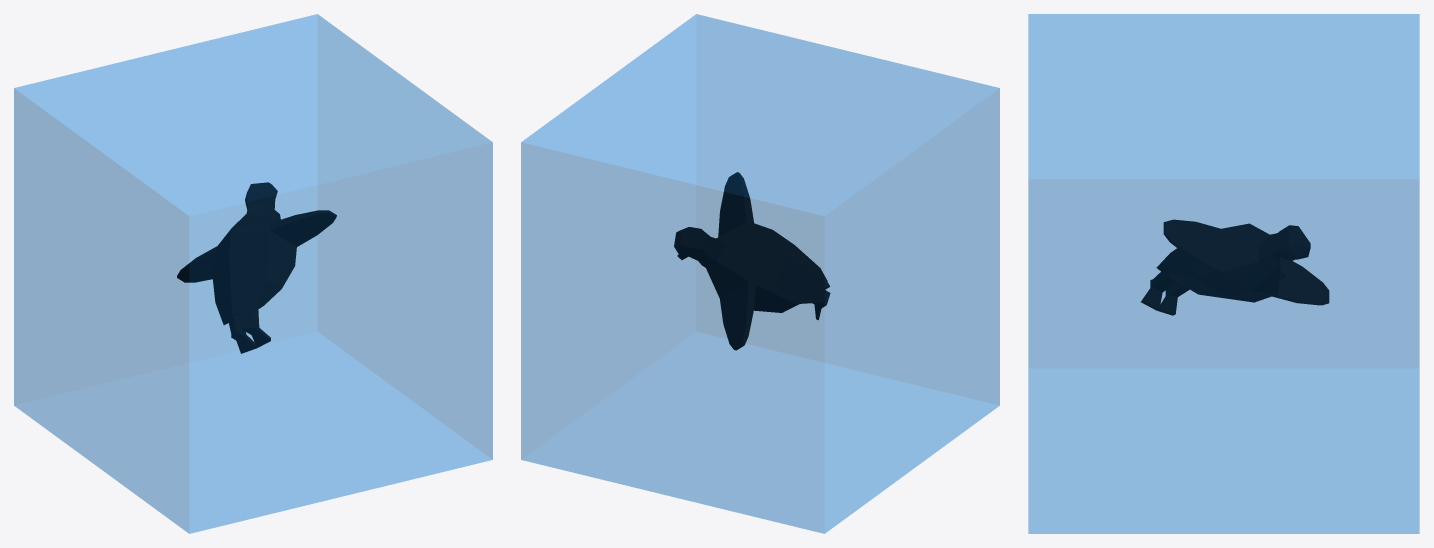
The model's file is iceCube.glb.
3 views of the same model, side by side, from view 1: azimuth 30°, elevation 25°; view 2: azimuth 150°, elevation 25°; view 3: azimuth 270°, elevation 25° (orthographic). The views are drawn at different scales.
Visible parts, largest first — view 1: Cube.001, Cube; view 2: Cube.001, Cube; view 3: Cube.001, Cube.
Part boxes in pixels (<box>): Cube.001: <box>14,14,492,533</box>; Cube: <box>177,182,336,353</box>; Cube.001: <box>521,14,999,533</box>; Cube: <box>674,172,830,350</box>; Cube.001: <box>1028,14,1419,533</box>; Cube: <box>1141,219,1329,315</box>.
Size of the model in its own units: 4 by 4 by 4.
Materials: 2 (1 with a texture image).
